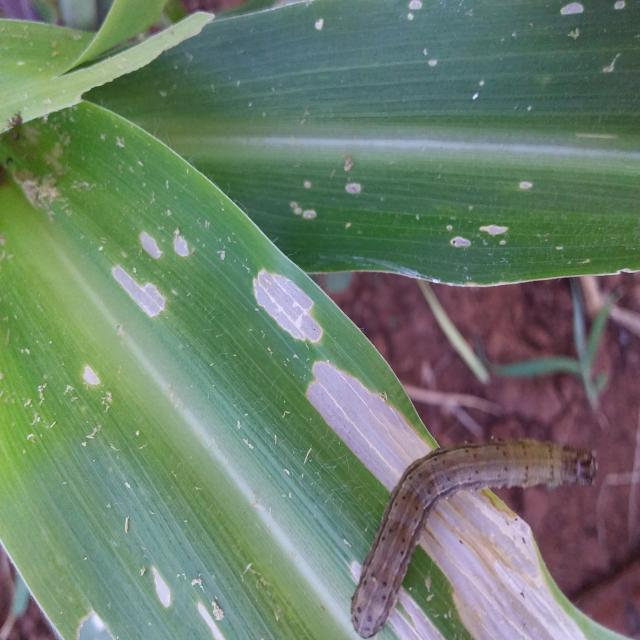yellow-stem-borer-larva: (328, 417, 600, 635)
